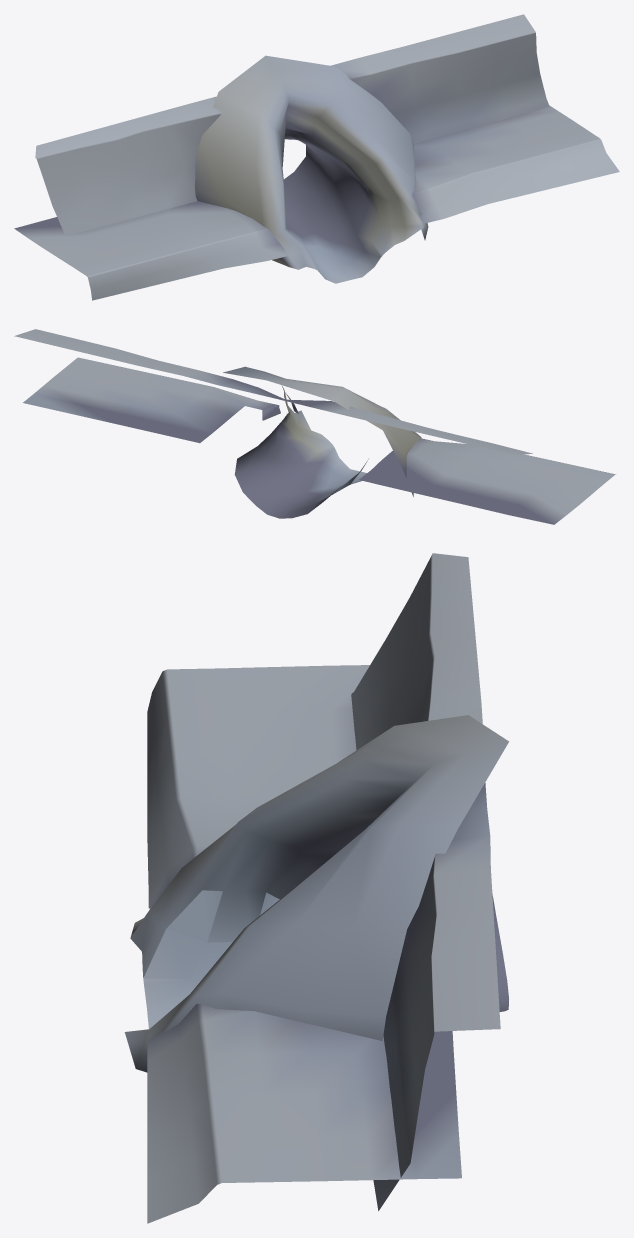
The model's file is Arctic_Luge_Tunnel_Right_15_End_A.glb.
3 renders of one model, top to bottom at view 1: azimuth 30°, elevation 25°; view 2: azimuth 150°, elevation 25°; view 3: azimuth 270°, elevation 25°, orthographic. The views are drawn at different scales.
Parts seen in each view (by area): view 1: Arctic_Luge_Tunnel_Right_15_End_A; view 2: Arctic_Luge_Tunnel_Right_15_End_A; view 3: Arctic_Luge_Tunnel_Right_15_End_A.
Part boxes in pixels (<box>): Arctic_Luge_Tunnel_Right_15_End_A: <box>14,14,619,300</box>; Arctic_Luge_Tunnel_Right_15_End_A: <box>14,329,615,524</box>; Arctic_Luge_Tunnel_Right_15_End_A: <box>124,553,509,1223</box>.
Size of what is drawn, in the model's own units: 26.27 by 7.38 by 8.24.
